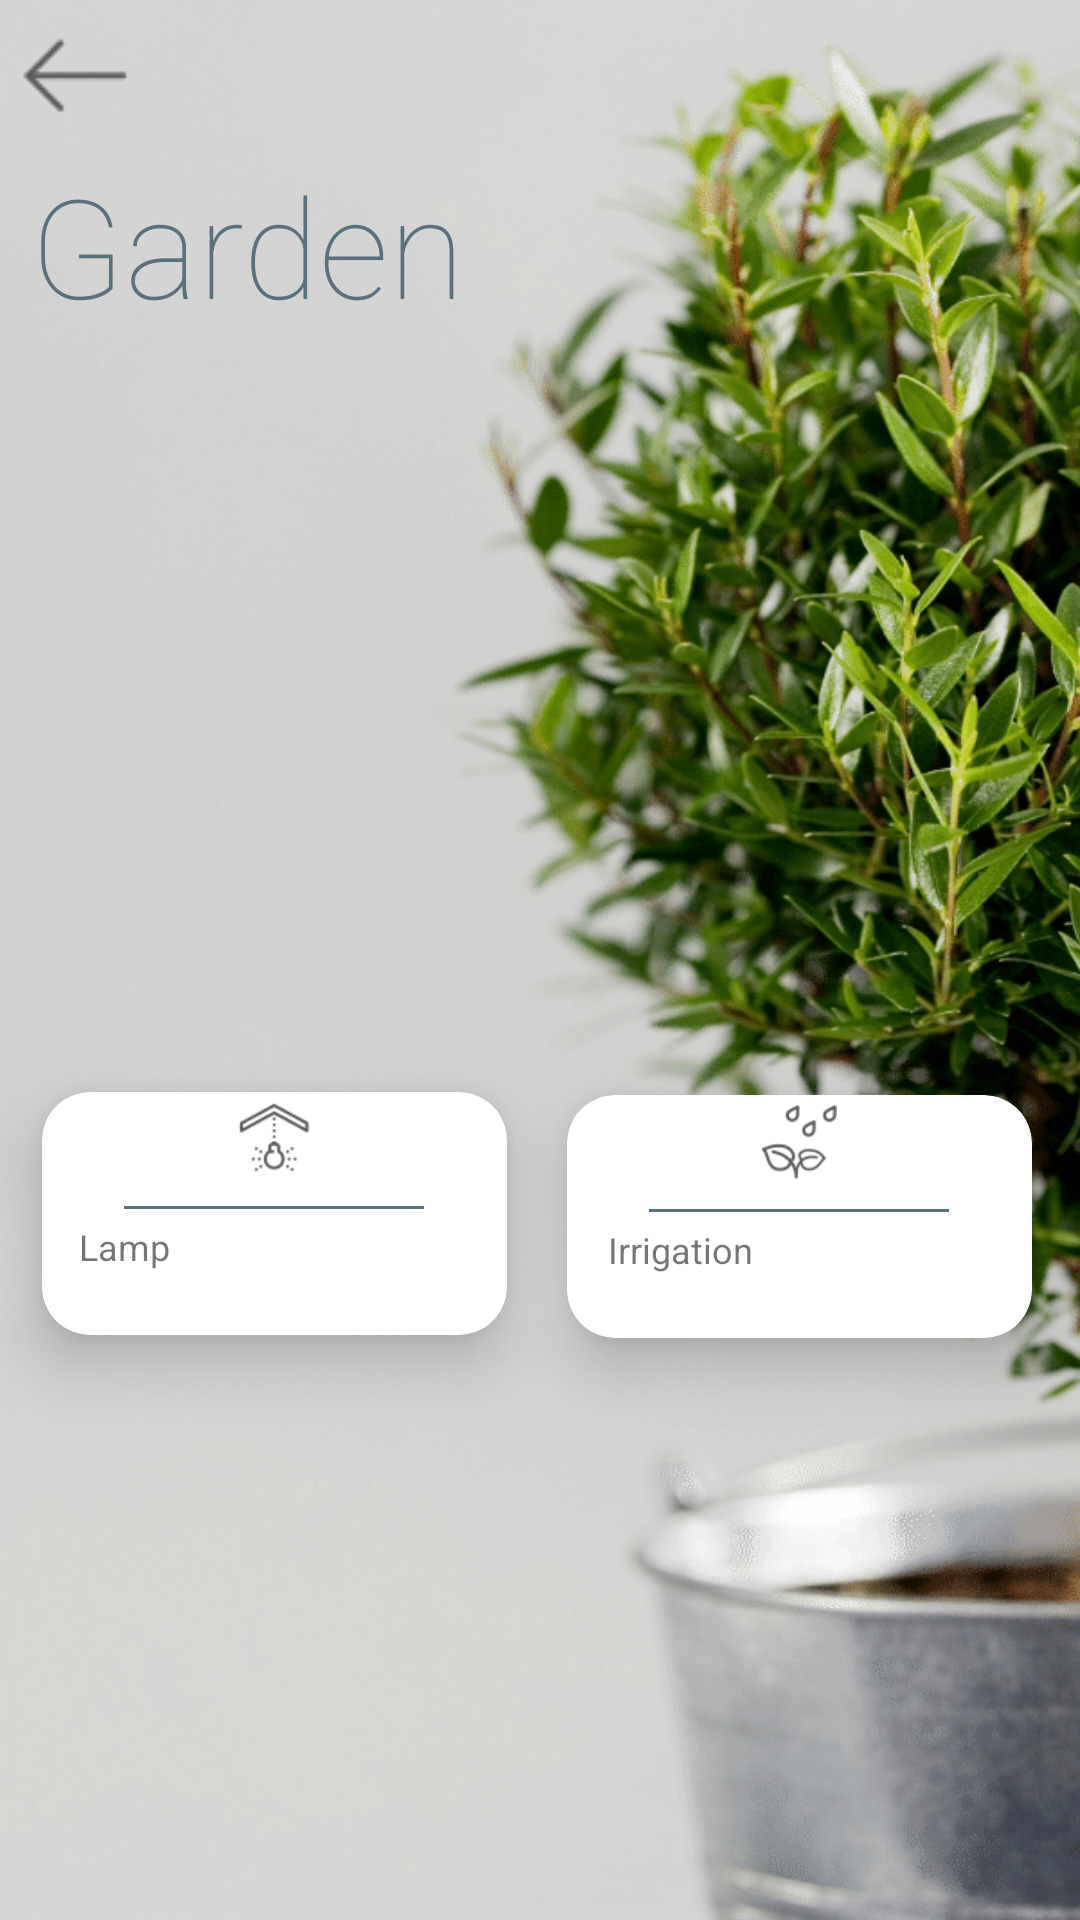

Icon click points for this 1080 x 1920 phone screenshot, format (x,y):
lemp: (274,1138)
